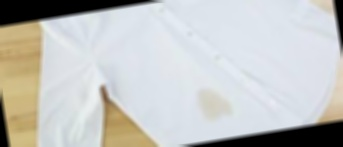coffee: (193, 84, 234, 123)
